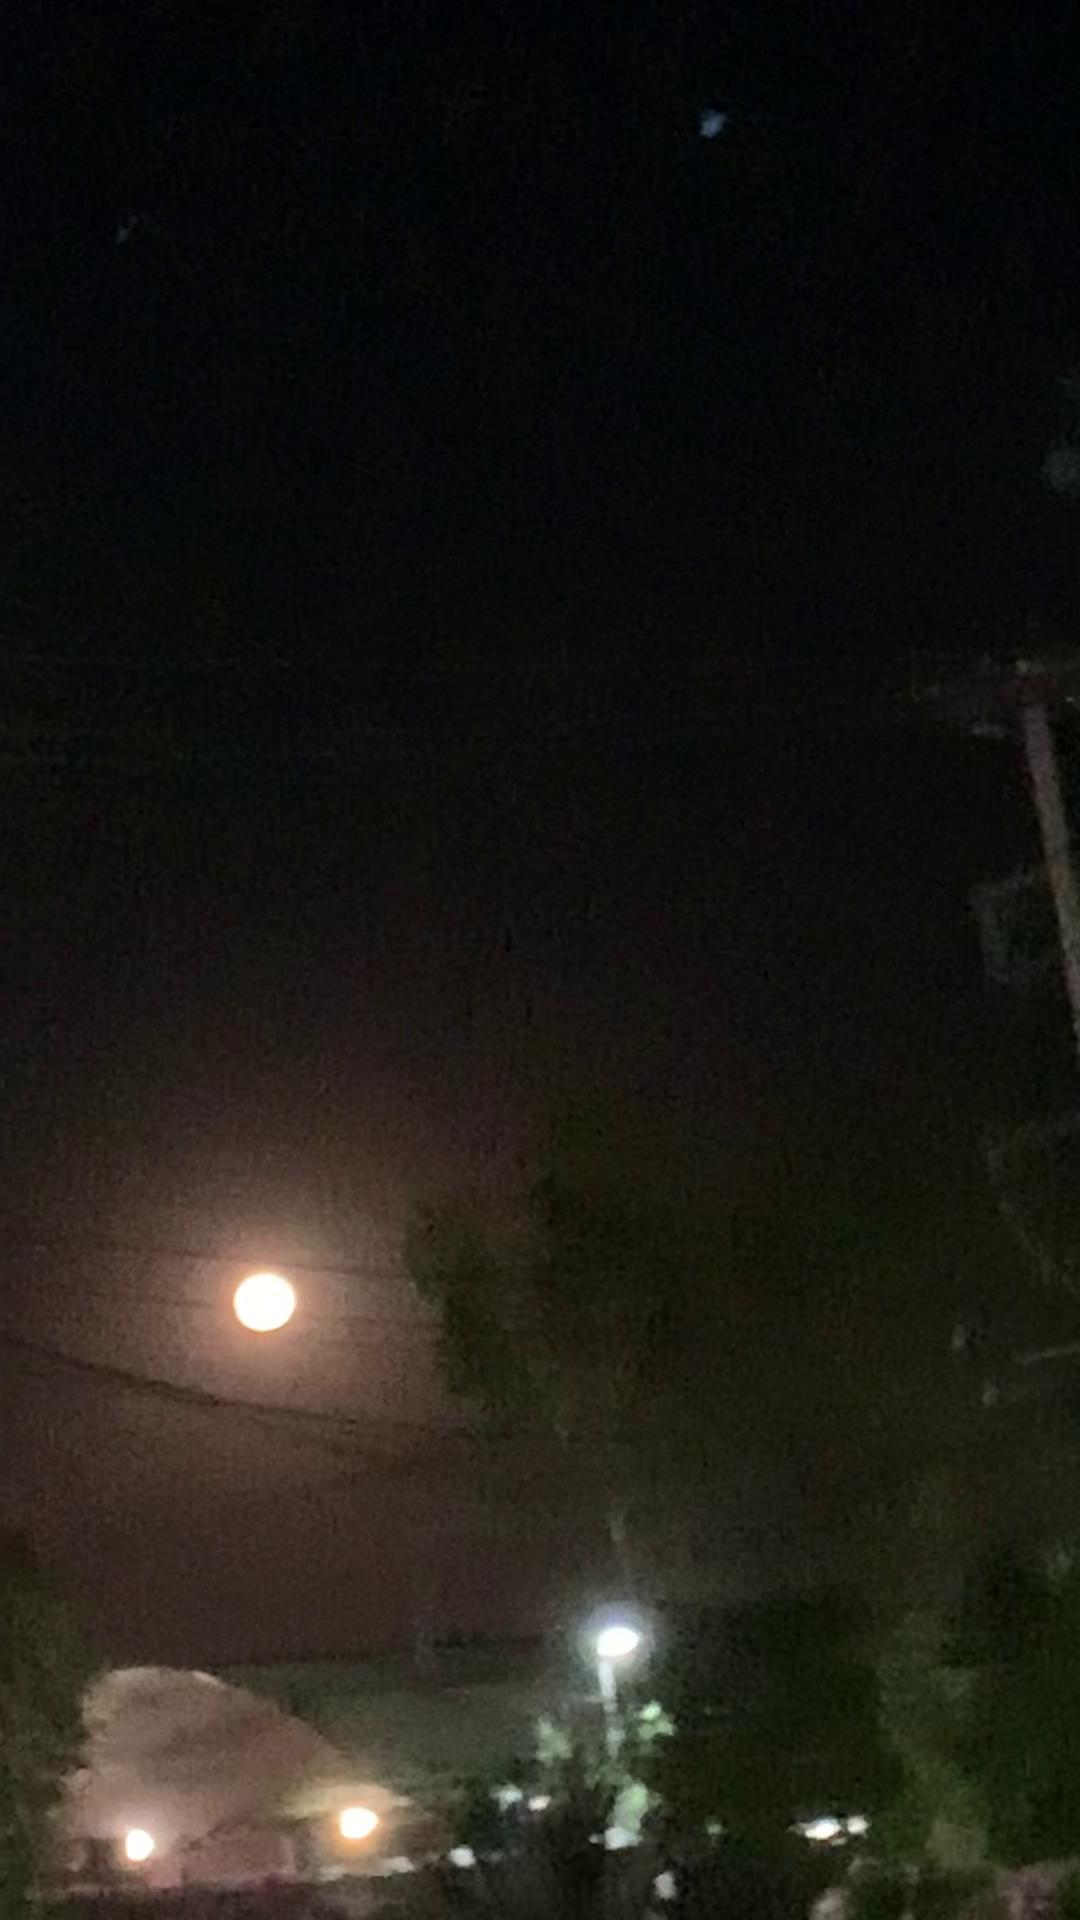moon: (224, 1265, 322, 1348)
